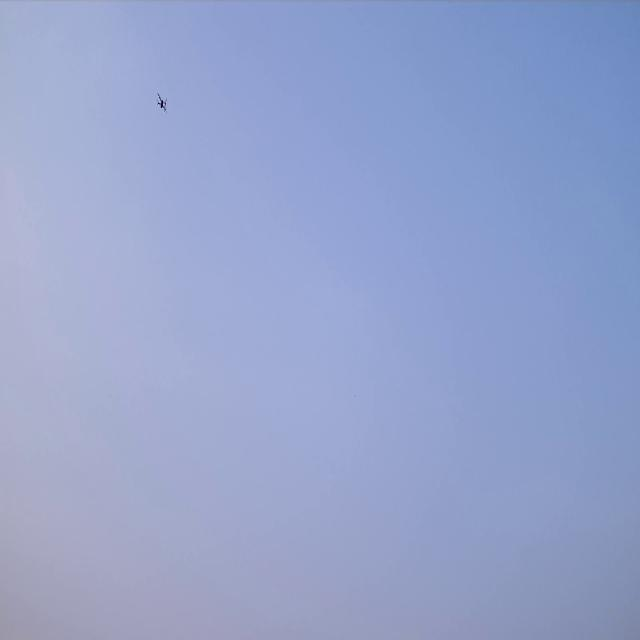UAV: (156, 90, 168, 114)
